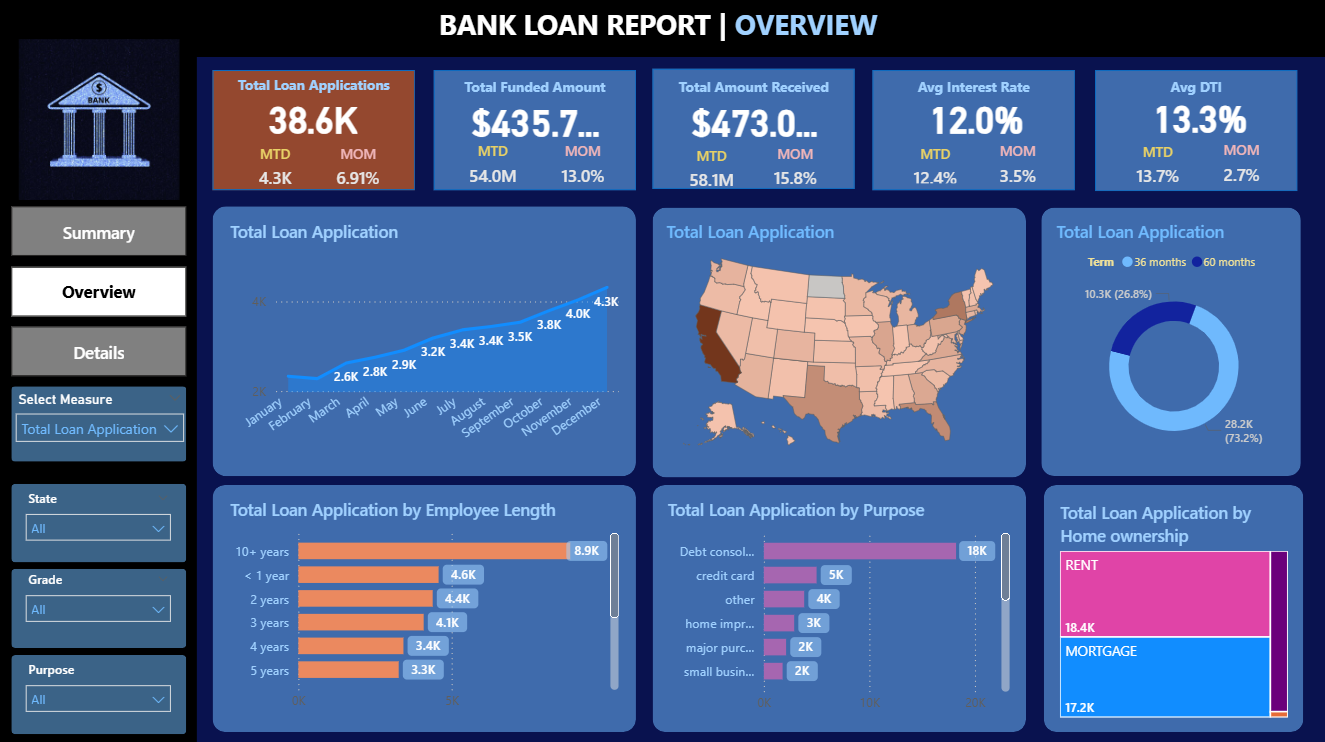

The dashboard page shown, as its layout file describes it:
{"tool":"powerbi","page":{"name":"Overview","canvas":[1280,720],"ordinal":1},"visuals":[{"type":"shape","box":[0,0,1280.3,55],"z":0},{"type":"shape","box":[0,54.9,190,665.5],"z":1000},{"type":"textbox","box":[418.5,0,440.5,54.9],"z":2000},{"type":"shape","box":[205.1,67.6,195.4,116],"z":3000},{"type":"textbox","box":[205.1,67.6,195.4,29],"z":4000},{"type":"cardVisual","title":"MTD","fields":{"Data":["Bank_Loan_Data.MTD Total Application"]},"box":[225.2,138.2,80,45],"z":5000},{"type":"cardVisual","title":"MOM","fields":{"Data":["Bank_Loan_Data.MOM Loan Application"]},"box":[304.8,138.2,80.8,45],"z":6000},{"type":"shape","box":[418.6,67.6,195.4,116],"z":7000},{"type":"shape","box":[629.6,66.7,195.1,116],"z":8000},{"type":"shape","box":[842.1,67.6,195.4,116],"z":9000},{"type":"shape","box":[1056.8,67.6,195.4,117],"z":10000},{"type":"cardVisual","fields":{"Data":["Bank_Loan_Data.Total Funded Amount"]},"box":[419.8,84.5,194.2,65.1],"z":11000},{"type":"cardVisual","fields":{"Data":["Bank_Loan_Data.Total Loan Application"]},"box":[205.1,82,194.2,65.1],"z":12000},{"type":"textbox","box":[418.6,70,195.4,29],"z":13000},{"type":"textbox","box":[629.8,70,195.4,29],"z":14000},{"type":"textbox","box":[842.1,70,195.4,29],"z":15000},{"type":"textbox","box":[1056.8,70,195.4,29],"z":16000},{"type":"cardVisual","title":"MTD","fields":{"Data":["Bank_Loan_Data.MTD Total Funded Amount"]},"box":[435.8,136.8,80.2,45],"z":17000},{"type":"cardVisual","title":"MOM","fields":{"Data":["Bank_Loan_Data.MOM Funded Amount"]},"box":[522.2,135.8,80.2,45],"z":18000},{"type":"cardVisual","fields":{"Data":["Bank_Loan_Data.Total Amount Received"]},"box":[629.6,85.2,195.1,64.2],"z":19000},{"type":"shape","box":[204.9,198.8,408.6,260.5],"z":20000},{"type":"cardVisual","title":"MTD","fields":{"Data":["Bank_Loan_Data.MTD Total Amount Received"]},"box":[646.9,140.7,80.2,44.4],"z":21000},{"type":"cardVisual","title":"MOM","fields":{"Data":["Bank_Loan_Data.MOM Amount Received"]},"box":[727.2,138.3,80.2,45.7],"z":22000},{"type":"cardVisual","fields":{"Data":["Bank_Loan_Data.AVG Intrest Rate"]},"box":[845.1,83.3,195.1,64.2],"z":23000},{"type":"cardVisual","title":"MTD","fields":{"Data":["Bank_Loan_Data.MTD Avg Intrest Rate"]},"box":[862.3,138.9,80.2,44.4],"z":24000},{"type":"cardVisual","title":"MOM","fields":{"Data":["Bank_Loan_Data.MOM Interest Rate"]},"box":[942.6,136.4,80.2,45.7],"z":25000},{"type":"cardVisual","fields":{"Data":["Bank_Loan_Data.Avg DTI"]},"box":[1060.5,82.5,195.1,64.2],"z":26000},{"type":"cardVisual","title":"MTD","fields":{"Data":["Bank_Loan_Data.MTD Avg DTI"]},"box":[1077.8,138,80.2,44.4],"z":27000},{"type":"cardVisual","title":"MOM","fields":{"Data":["Bank_Loan_Data.MOM DTI"]},"box":[1158,135.6,80.2,45.7],"z":28000},{"type":"shape","box":[10.9,467.4,169.1,76],"z":29000},{"type":"slicer","fields":{"Values":["Bank_Loan_Data.address_state"]},"box":[14.8,467.9,160.5,72.8],"z":30000},{"type":"shape","box":[10.9,548.9,169.1,76.5],"z":31000},{"type":"slicer","fields":{"Values":["Bank_Loan_Data.grade"]},"box":[14.8,546.9,160.5,72.8],"z":32000},{"type":"shape","box":[10.9,631.6,169.1,76.5],"z":33000},{"type":"slicer","fields":{"Values":["Bank_Loan_Data.purpose"]},"box":[14.8,633.3,160.5,72.8],"z":34000},{"type":"stackedAreaChart","fields":{"Y":["Bank_Loan_Data.Total Loan Application"],"Category":["Calander.Month"]},"box":[217.3,212.3,385.2,233.3],"z":35000},{"type":"shape","box":[11.1,372.8,169.1,72.8],"z":36000},{"type":"slicer","title":"Select Measure","fields":{"Values":["Select Measure.Select Measure"]},"box":[4.9,372.8,182.7,65.4],"z":37000},{"type":"shape","box":[629.6,200,360.5,260.5],"z":38000},{"type":"shapeMap","fields":{"Value":["Bank_Loan_Data.Total Loan Application"],"Category":["Bank_Loan_Data.address_state"]},"box":[638.3,212.3,342,233.3],"z":39000},{"type":"shape","box":[1004.9,200,250.6,259.3],"z":40000},{"type":"donutChart","fields":{"Y":["Bank_Loan_Data.Total Loan Application"],"Category":["Bank_Loan_Data.term"]},"box":[1014.8,212.3,237,233.3],"z":41000},{"type":"shape","box":[204.9,467.9,408.6,238.3],"z":42000},{"type":"barChart","fields":{"Y":["Bank_Loan_Data.Total Loan Application"],"Category":["Bank_Loan_Data.emp_length"]},"box":[217.3,480.2,385.2,214.8],"z":43000},{"type":"shape","box":[629.6,467.9,360.5,238.3],"z":44000},{"type":"shape","box":[1007.4,467.9,250.6,238.3],"z":45000},{"type":"barChart","fields":{"Y":["Bank_Loan_Data.Total Loan Application"],"Category":["Bank_Loan_Data.purpose"]},"box":[639.4,480.3,340.3,216.6],"z":46000},{"type":"treemap","fields":{"Values":["Bank_Loan_Data.Total Loan Application"],"Group":["Bank_Loan_Data.home_ownership"]},"box":[1018.1,483.2,229.8,213.6],"z":47000},{"type":"image","box":[18.5,35.8,155.6,158],"z":48000},{"type":"pageNavigator","box":[11.1,198.8,169.1,166.7],"z":49000}]}

Visuals, with their boxes in screenshot pixels (x1, y1, x2, y2), scaled from the page's 1280x720 canvas onto the 1325x742 screenshot:
shape: <box>0,0,1324,57</box>
shape: <box>0,57,197,741</box>
textbox: <box>433,0,889,57</box>
shape: <box>212,70,415,189</box>
textbox: <box>212,70,415,100</box>
"MTD" cardVisual: <box>233,142,316,189</box>
"MOM" cardVisual: <box>316,142,399,189</box>
shape: <box>433,70,636,189</box>
shape: <box>652,69,854,188</box>
shape: <box>872,70,1074,189</box>
shape: <box>1094,70,1296,190</box>
cardVisual - Bank_Loan_Data.Total Funded Amount: <box>435,87,636,154</box>
cardVisual - Bank_Loan_Data.Total Loan Application: <box>212,85,413,152</box>
textbox: <box>433,72,636,102</box>
textbox: <box>652,72,854,102</box>
textbox: <box>872,72,1074,102</box>
textbox: <box>1094,72,1296,102</box>
"MTD" cardVisual: <box>451,141,534,187</box>
"MOM" cardVisual: <box>541,140,624,186</box>
cardVisual - Bank_Loan_Data.Total Amount Received: <box>652,88,854,154</box>
shape: <box>212,205,635,473</box>
"MTD" cardVisual: <box>670,145,753,191</box>
"MOM" cardVisual: <box>753,143,836,190</box>
cardVisual - Bank_Loan_Data.AVG Intrest Rate: <box>875,86,1077,152</box>
"MTD" cardVisual: <box>893,143,976,189</box>
"MOM" cardVisual: <box>976,141,1059,188</box>
cardVisual - Bank_Loan_Data.Avg DTI: <box>1098,85,1300,151</box>
"MTD" cardVisual: <box>1116,142,1199,188</box>
"MOM" cardVisual: <box>1199,140,1282,187</box>
shape: <box>11,482,186,560</box>
slicer - Bank_Loan_Data.address_state: <box>15,482,181,557</box>
shape: <box>11,566,186,645</box>
slicer - Bank_Loan_Data.grade: <box>15,564,181,639</box>
shape: <box>11,651,186,730</box>
slicer - Bank_Loan_Data.purpose: <box>15,653,181,728</box>
stackedAreaChart - Bank_Loan_Data.Total Loan Application x Calander.Month: <box>225,219,624,459</box>
shape: <box>11,384,187,459</box>
"Select Measure" slicer: <box>5,384,194,452</box>
shape: <box>652,206,1025,475</box>
shapeMap - Bank_Loan_Data.Total Loan Application x Bank_Loan_Data.address_state: <box>661,219,1015,459</box>
shape: <box>1040,206,1300,473</box>
donutChart - Bank_Loan_Data.Total Loan Application x Bank_Loan_Data.term: <box>1050,219,1296,459</box>
shape: <box>212,482,635,728</box>
barChart - Bank_Loan_Data.Total Loan Application x Bank_Loan_Data.emp_length: <box>225,495,624,716</box>
shape: <box>652,482,1025,728</box>
shape: <box>1043,482,1302,728</box>
barChart - Bank_Loan_Data.Total Loan Application x Bank_Loan_Data.purpose: <box>662,495,1014,718</box>
treemap - Bank_Loan_Data.Total Loan Application x Bank_Loan_Data.home_ownership: <box>1054,498,1292,718</box>
image: <box>19,37,180,200</box>
pageNavigator: <box>11,205,187,377</box>
